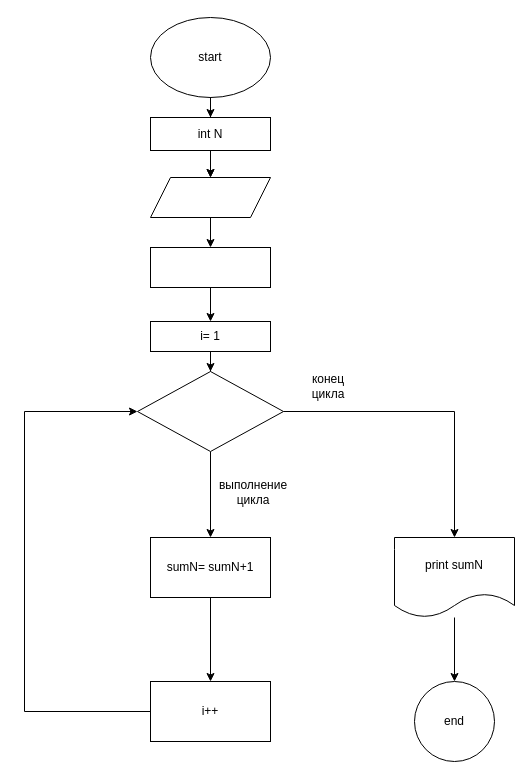
Some shapes in this 532 by 779 pixel diagram are drawn without their labels. The shapes that lost their labels are listed below. From the top down, each one's centre as x and y in pixels, then its label:
the point at 210,197: N = num
the point at 210,267: int sumN =0
the point at 210,411: i<=N
